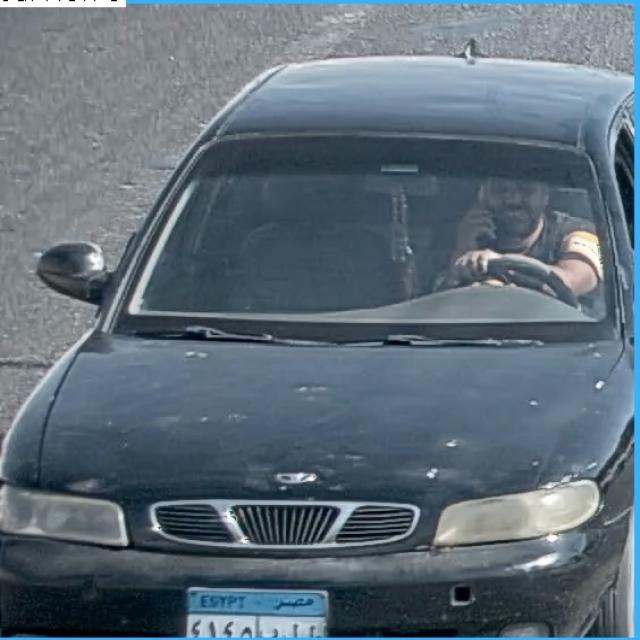windshield: (124, 148, 607, 333)
